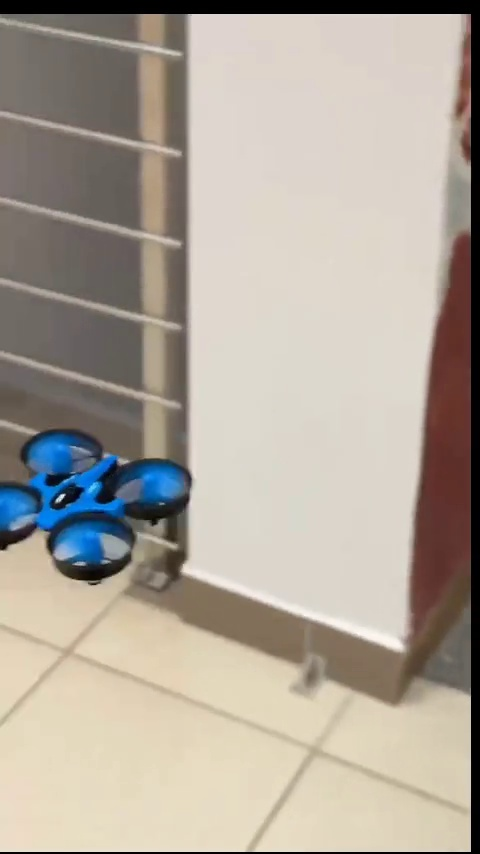drone: (2, 426, 192, 583)
